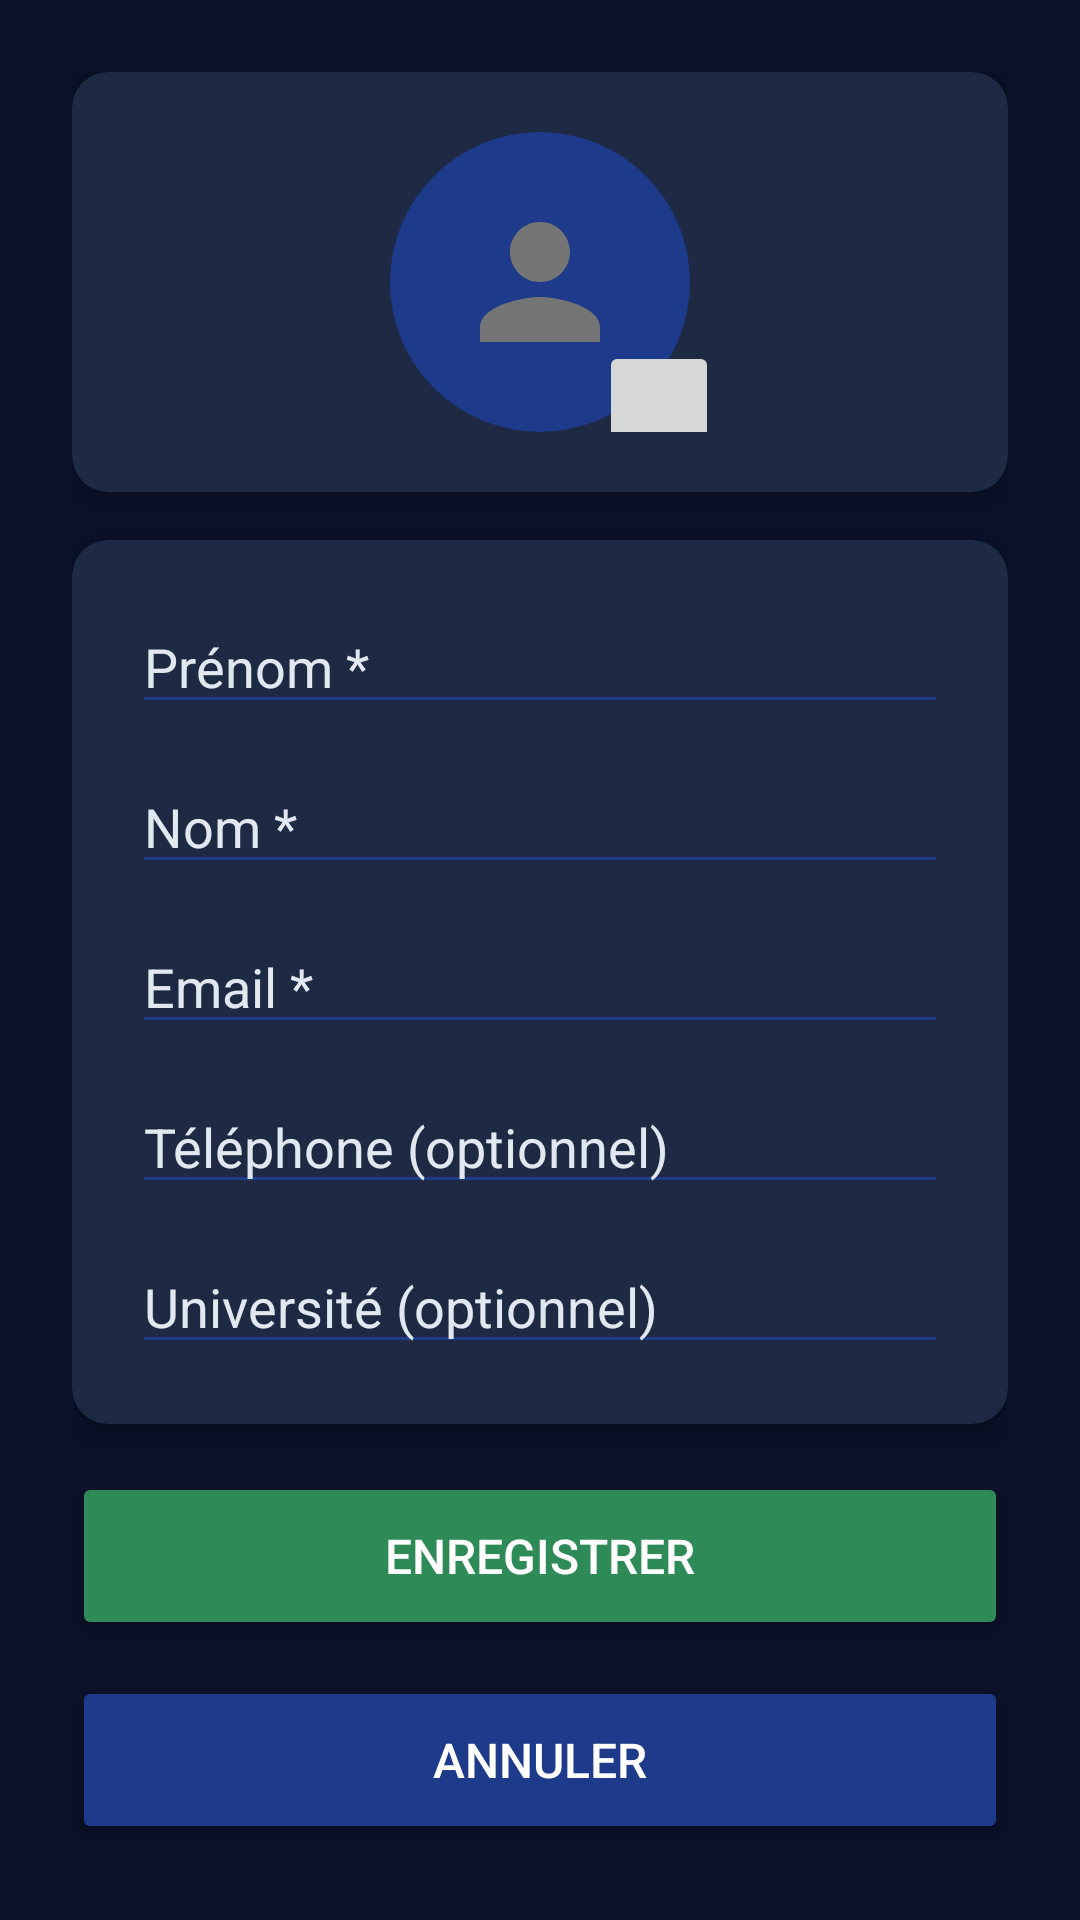

Where icons sit on this 1080 × 1920 app screen, as (x1, y1, x2, y2):
Photo de profil: (390, 132, 690, 432)
